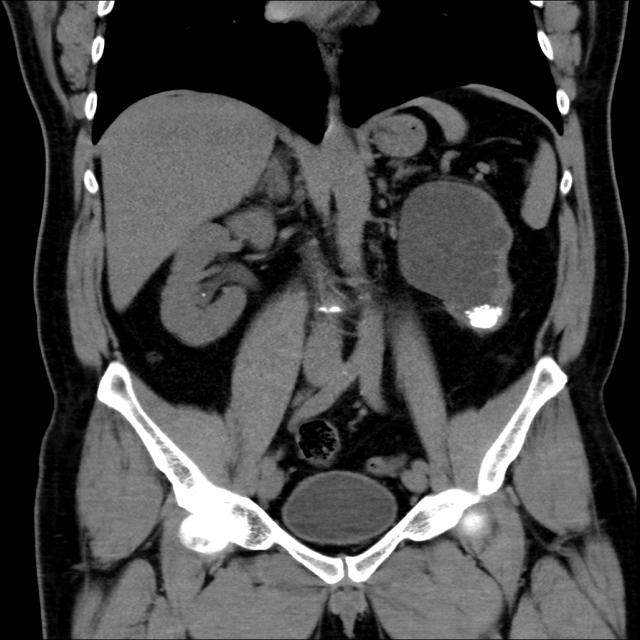kidneystone: (465, 305, 502, 329)
